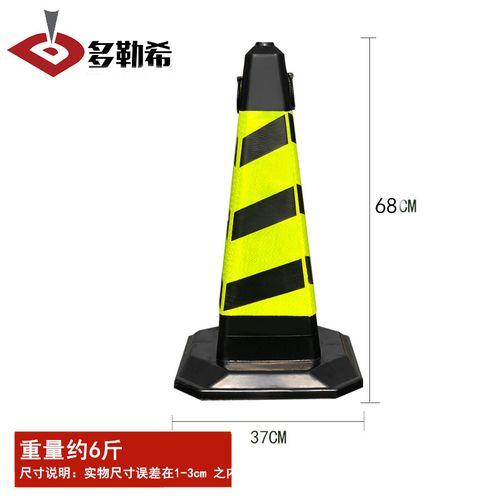sign: (163, 31, 361, 402)
